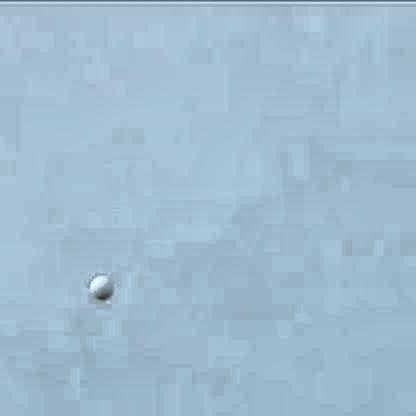golfball: (87, 267, 111, 297)
